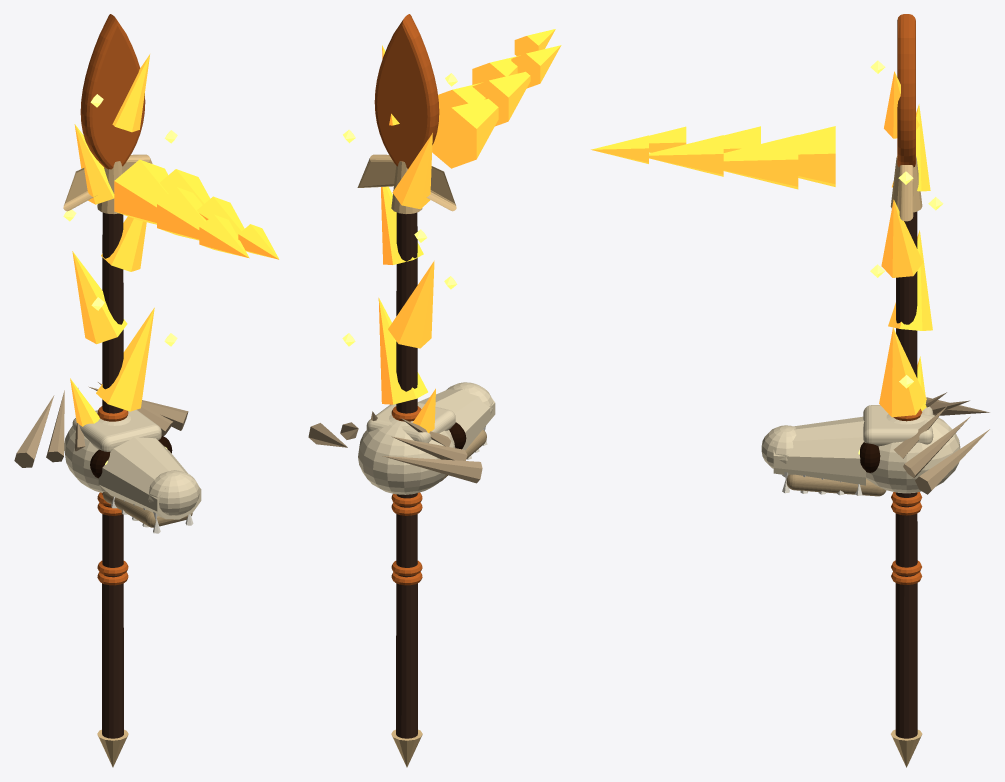
The model's file is drspear.glb.
The picture shows the model from 3 angles, left to right: view 1: azimuth 30°, elevation 25°; view 2: azimuth 150°, elevation 25°; view 3: azimuth 270°, elevation 25°; orthographic projection.
Visible parts, largest first — view 1: flame, bone, shaft, head, horn, fitting, wrap, boneDark, ember, socket; view 2: flame, shaft, bone, head, horn, fitting, wrap, ember; view 3: flame, bone, shaft, horn, head, fitting, wrap, boneDark.
Boxes of the visible parts, <box> form: flame: <box>70,54,279,426</box>; bone: <box>64,409,201,519</box>; shaft: <box>102,212,123,738</box>; head: <box>80,14,145,169</box>; horn: <box>14,382,188,467</box>; fitting: <box>63,154,152,767</box>; wrap: <box>97,406,128,585</box>; boneDark: <box>103,491,192,527</box>; ember: <box>63,94,177,464</box>; socket: <box>90,436,172,478</box>; flame: <box>378,29,561,432</box>; shaft: <box>396,212,417,738</box>; bone: <box>358,382,495,494</box>; head: <box>374,14,439,168</box>; horn: <box>308,411,482,483</box>; fitting: <box>357,154,456,767</box>; wrap: <box>391,406,422,585</box>; ember: <box>342,73,457,346</box>; flame: <box>591,71,932,417</box>; bone: <box>761,405,960,493</box>; shaft: <box>895,211,917,738</box>; horn: <box>893,392,989,494</box>; head: <box>897,14,915,167</box>; fitting: <box>890,156,922,767</box>; wrap: <box>891,408,922,584</box>; boneDark: <box>786,474,886,496</box>.
Size of the model in its own units: 1.17 by 4.88 by 2.34.
